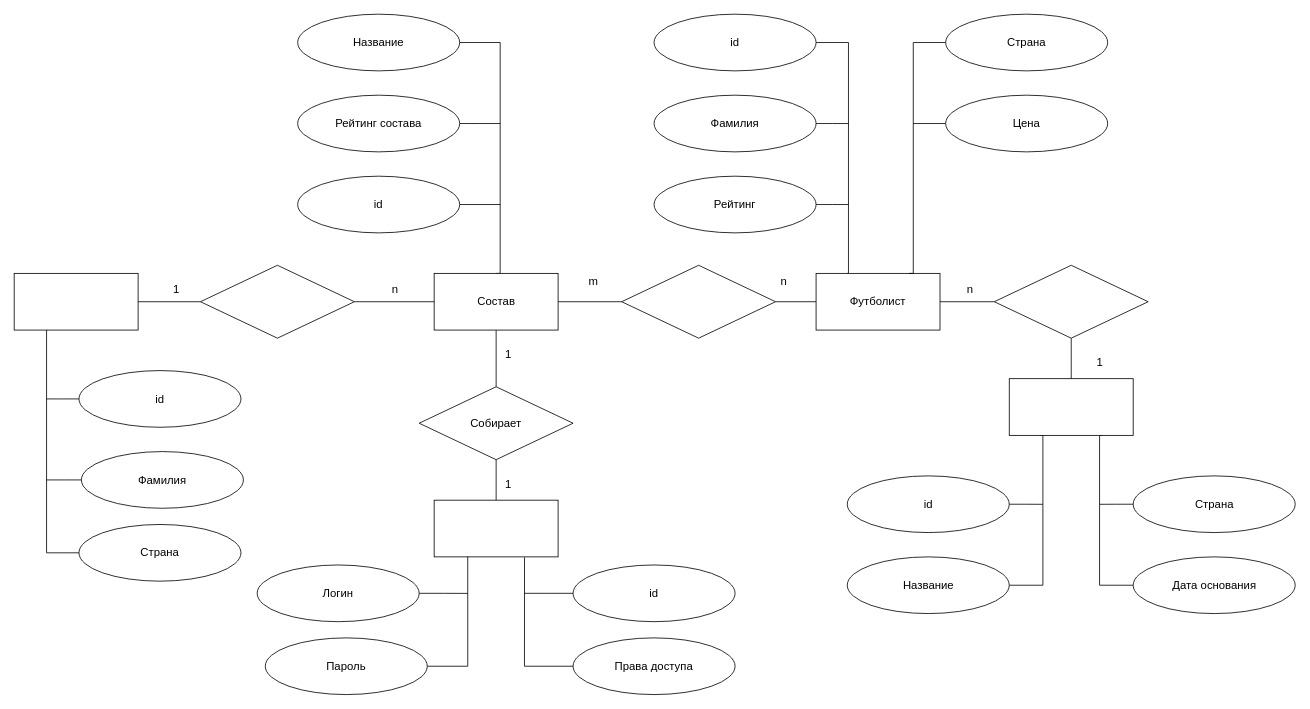
This 1310x709 diagram has some shape labels left out. Each missing label, with the centre of its shape:
Возглавляет: [277,301]
Клуб: [1070,406]
Пользователь: [495,528]
Содержит: [698,301]
Состоит в: [1070,301]
Тренер: [75,301]
